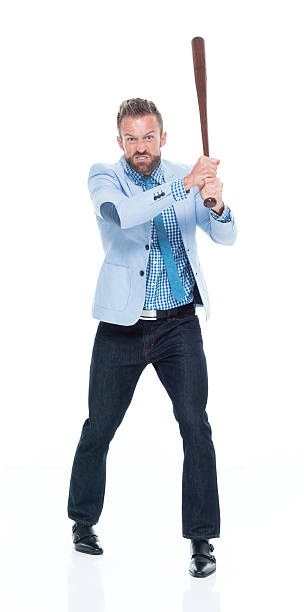bita: (188, 34, 222, 195)
